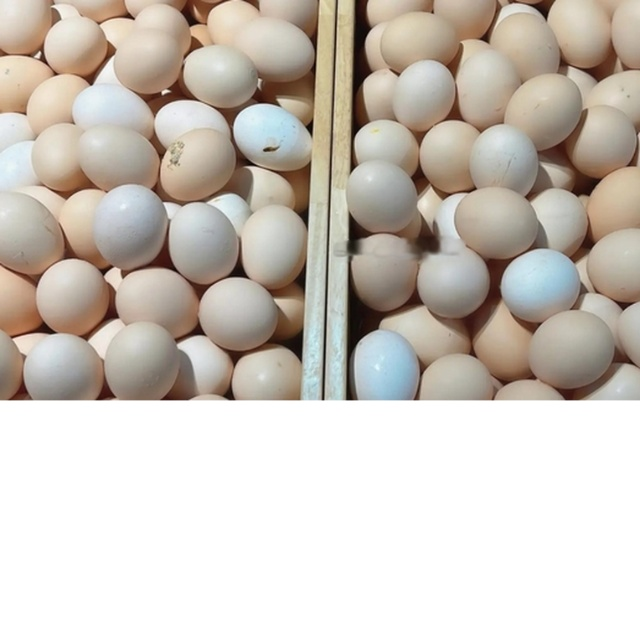trung_ga: (522, 306, 616, 392), (87, 181, 168, 271), (110, 268, 205, 343), (339, 230, 423, 314), (501, 70, 585, 152), (450, 184, 540, 259), (101, 321, 184, 402), (193, 276, 280, 353), (155, 127, 239, 205), (340, 159, 422, 236), (237, 203, 309, 290), (73, 126, 163, 194), (35, 258, 110, 339), (165, 202, 239, 283), (415, 244, 491, 321), (468, 122, 541, 202), (174, 41, 261, 108), (233, 15, 316, 83), (453, 48, 521, 127), (110, 29, 182, 98), (391, 59, 455, 133), (39, 16, 111, 80)
